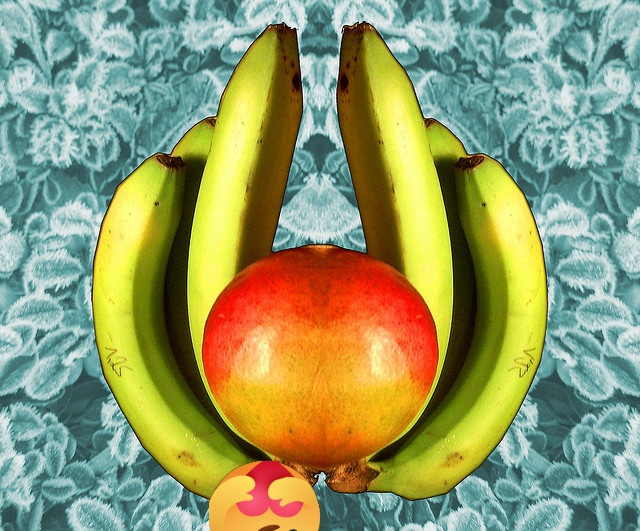care: (209, 461, 320, 531)
